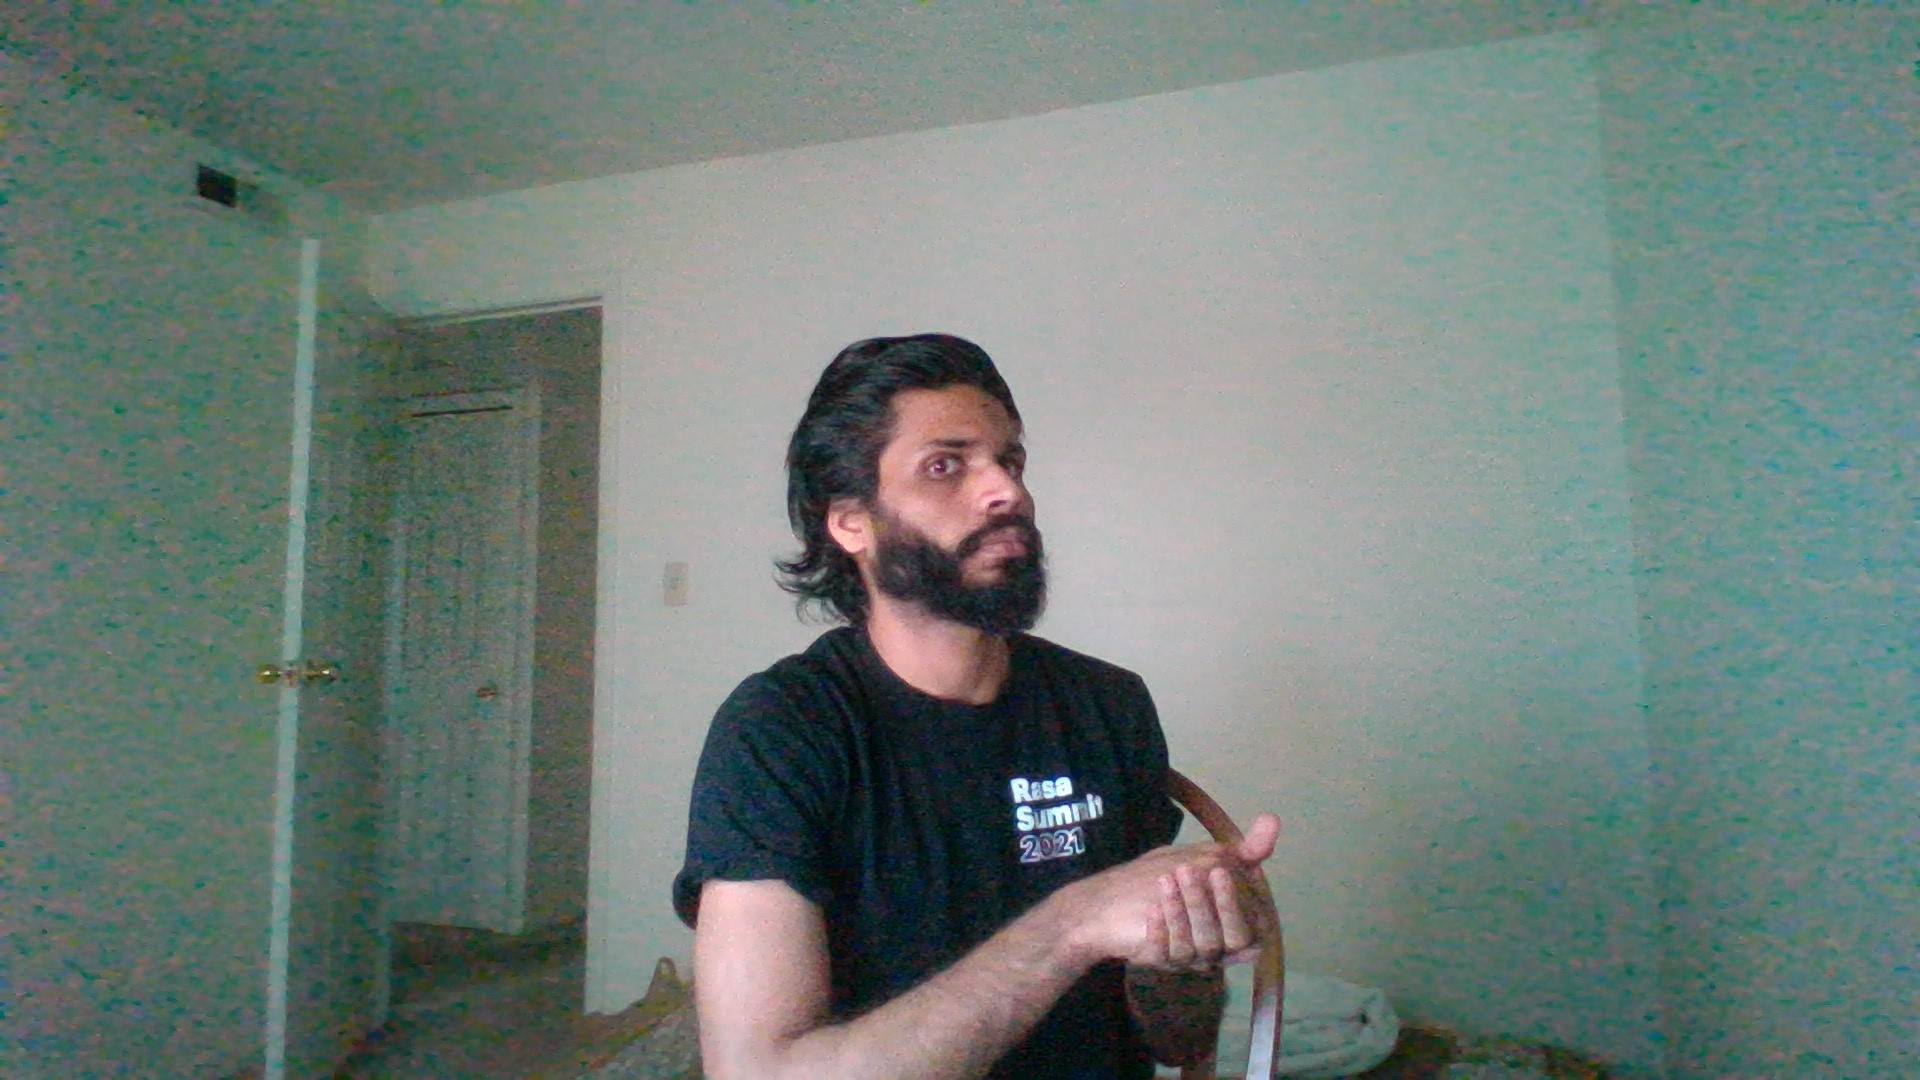Marriage: (1044, 806, 1312, 1007)
